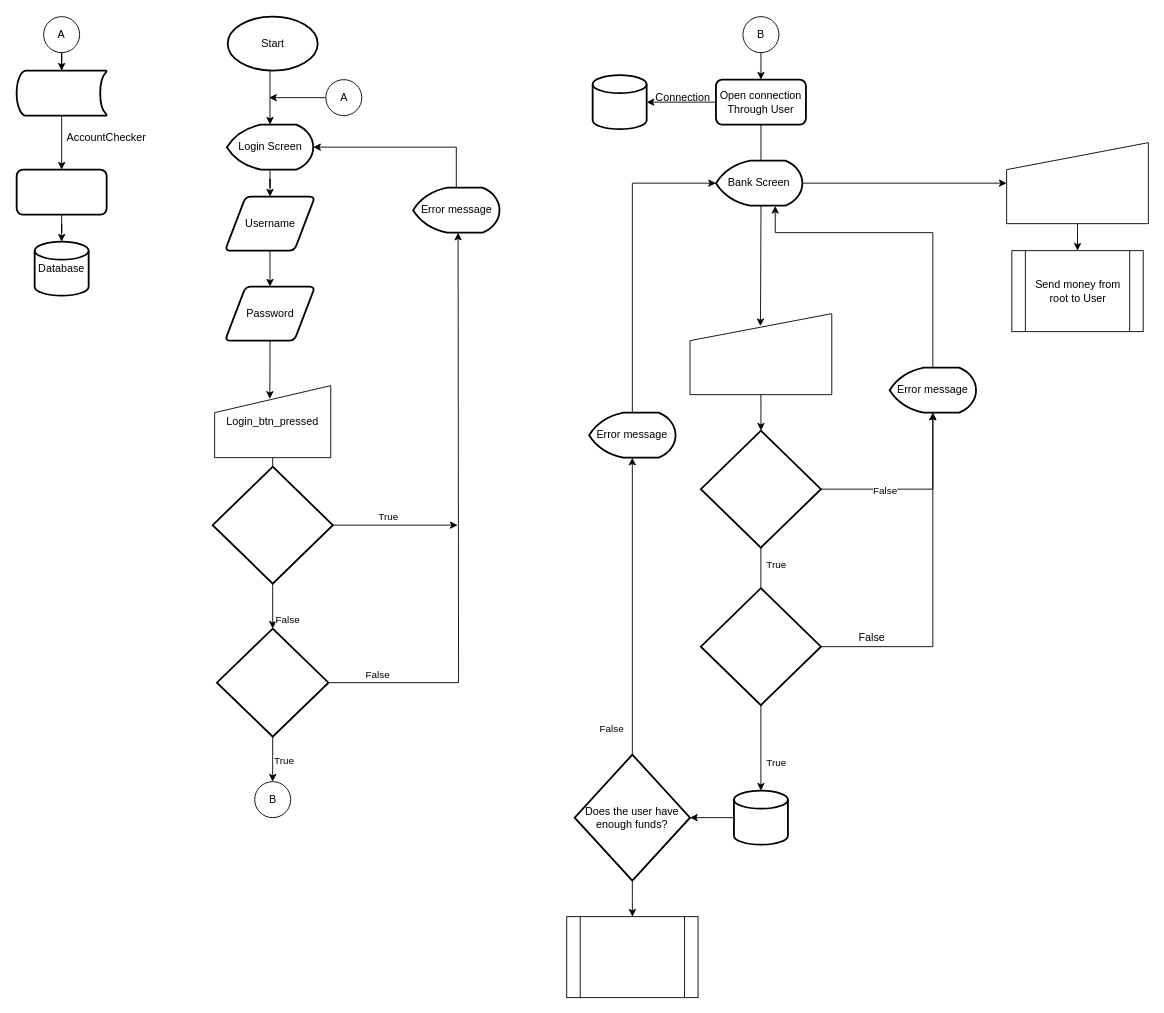
Some shapes in this 1164 by 1013 pixel diagram are drawn without their labels. The shapes that lost their labels are listed below. From the top down, each one's box as (x1, y1, x2, y2) in pixels, then its label:
(15, 69, 107, 116): IP, ID, Password, Database
(15, 168, 107, 215): Open connection Through AccountChecker
(1006, 142, 1148, 224): takeLoan_btn_pressed
(689, 313, 832, 395): sendMoney_btn_pressed
(699, 429, 821, 548): is target selected?
(211, 465, 333, 584): Is username or password empty?
(699, 587, 821, 706): is transfer amount specified?
(216, 627, 329, 737): is login info correct?
(566, 916, 698, 998): Send Money && Update user balance && Update transactions
